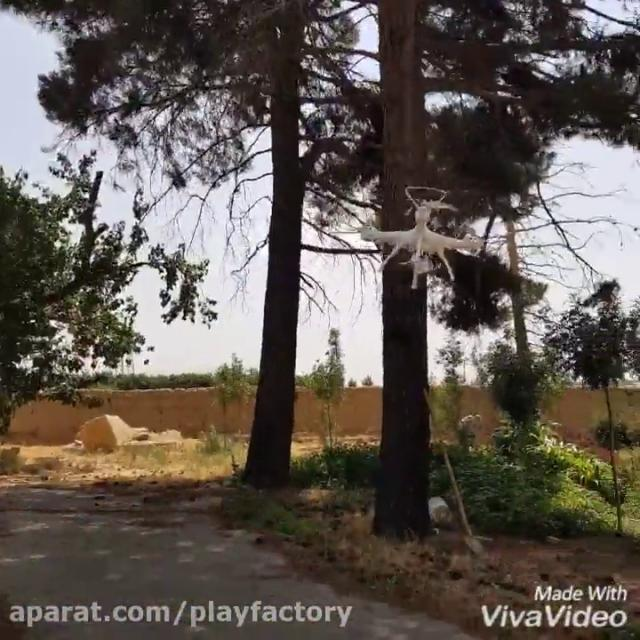drone: (328, 182, 497, 289)
